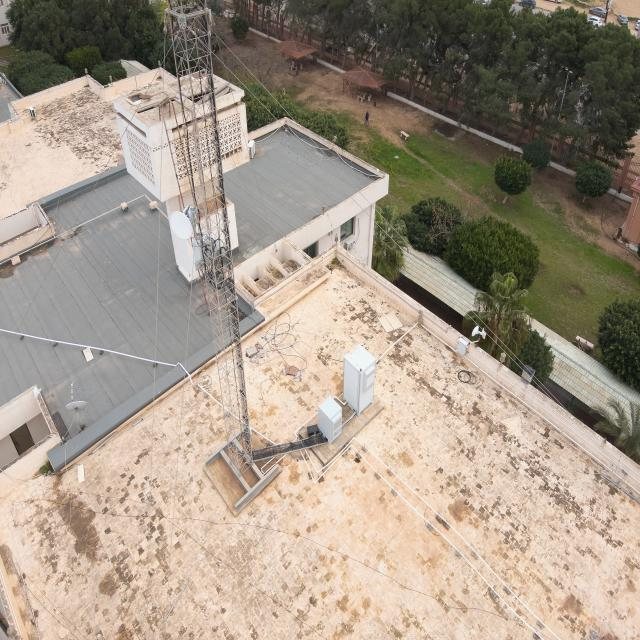microware-dish: (170, 205, 200, 240)
power-box: (193, 230, 221, 262)
